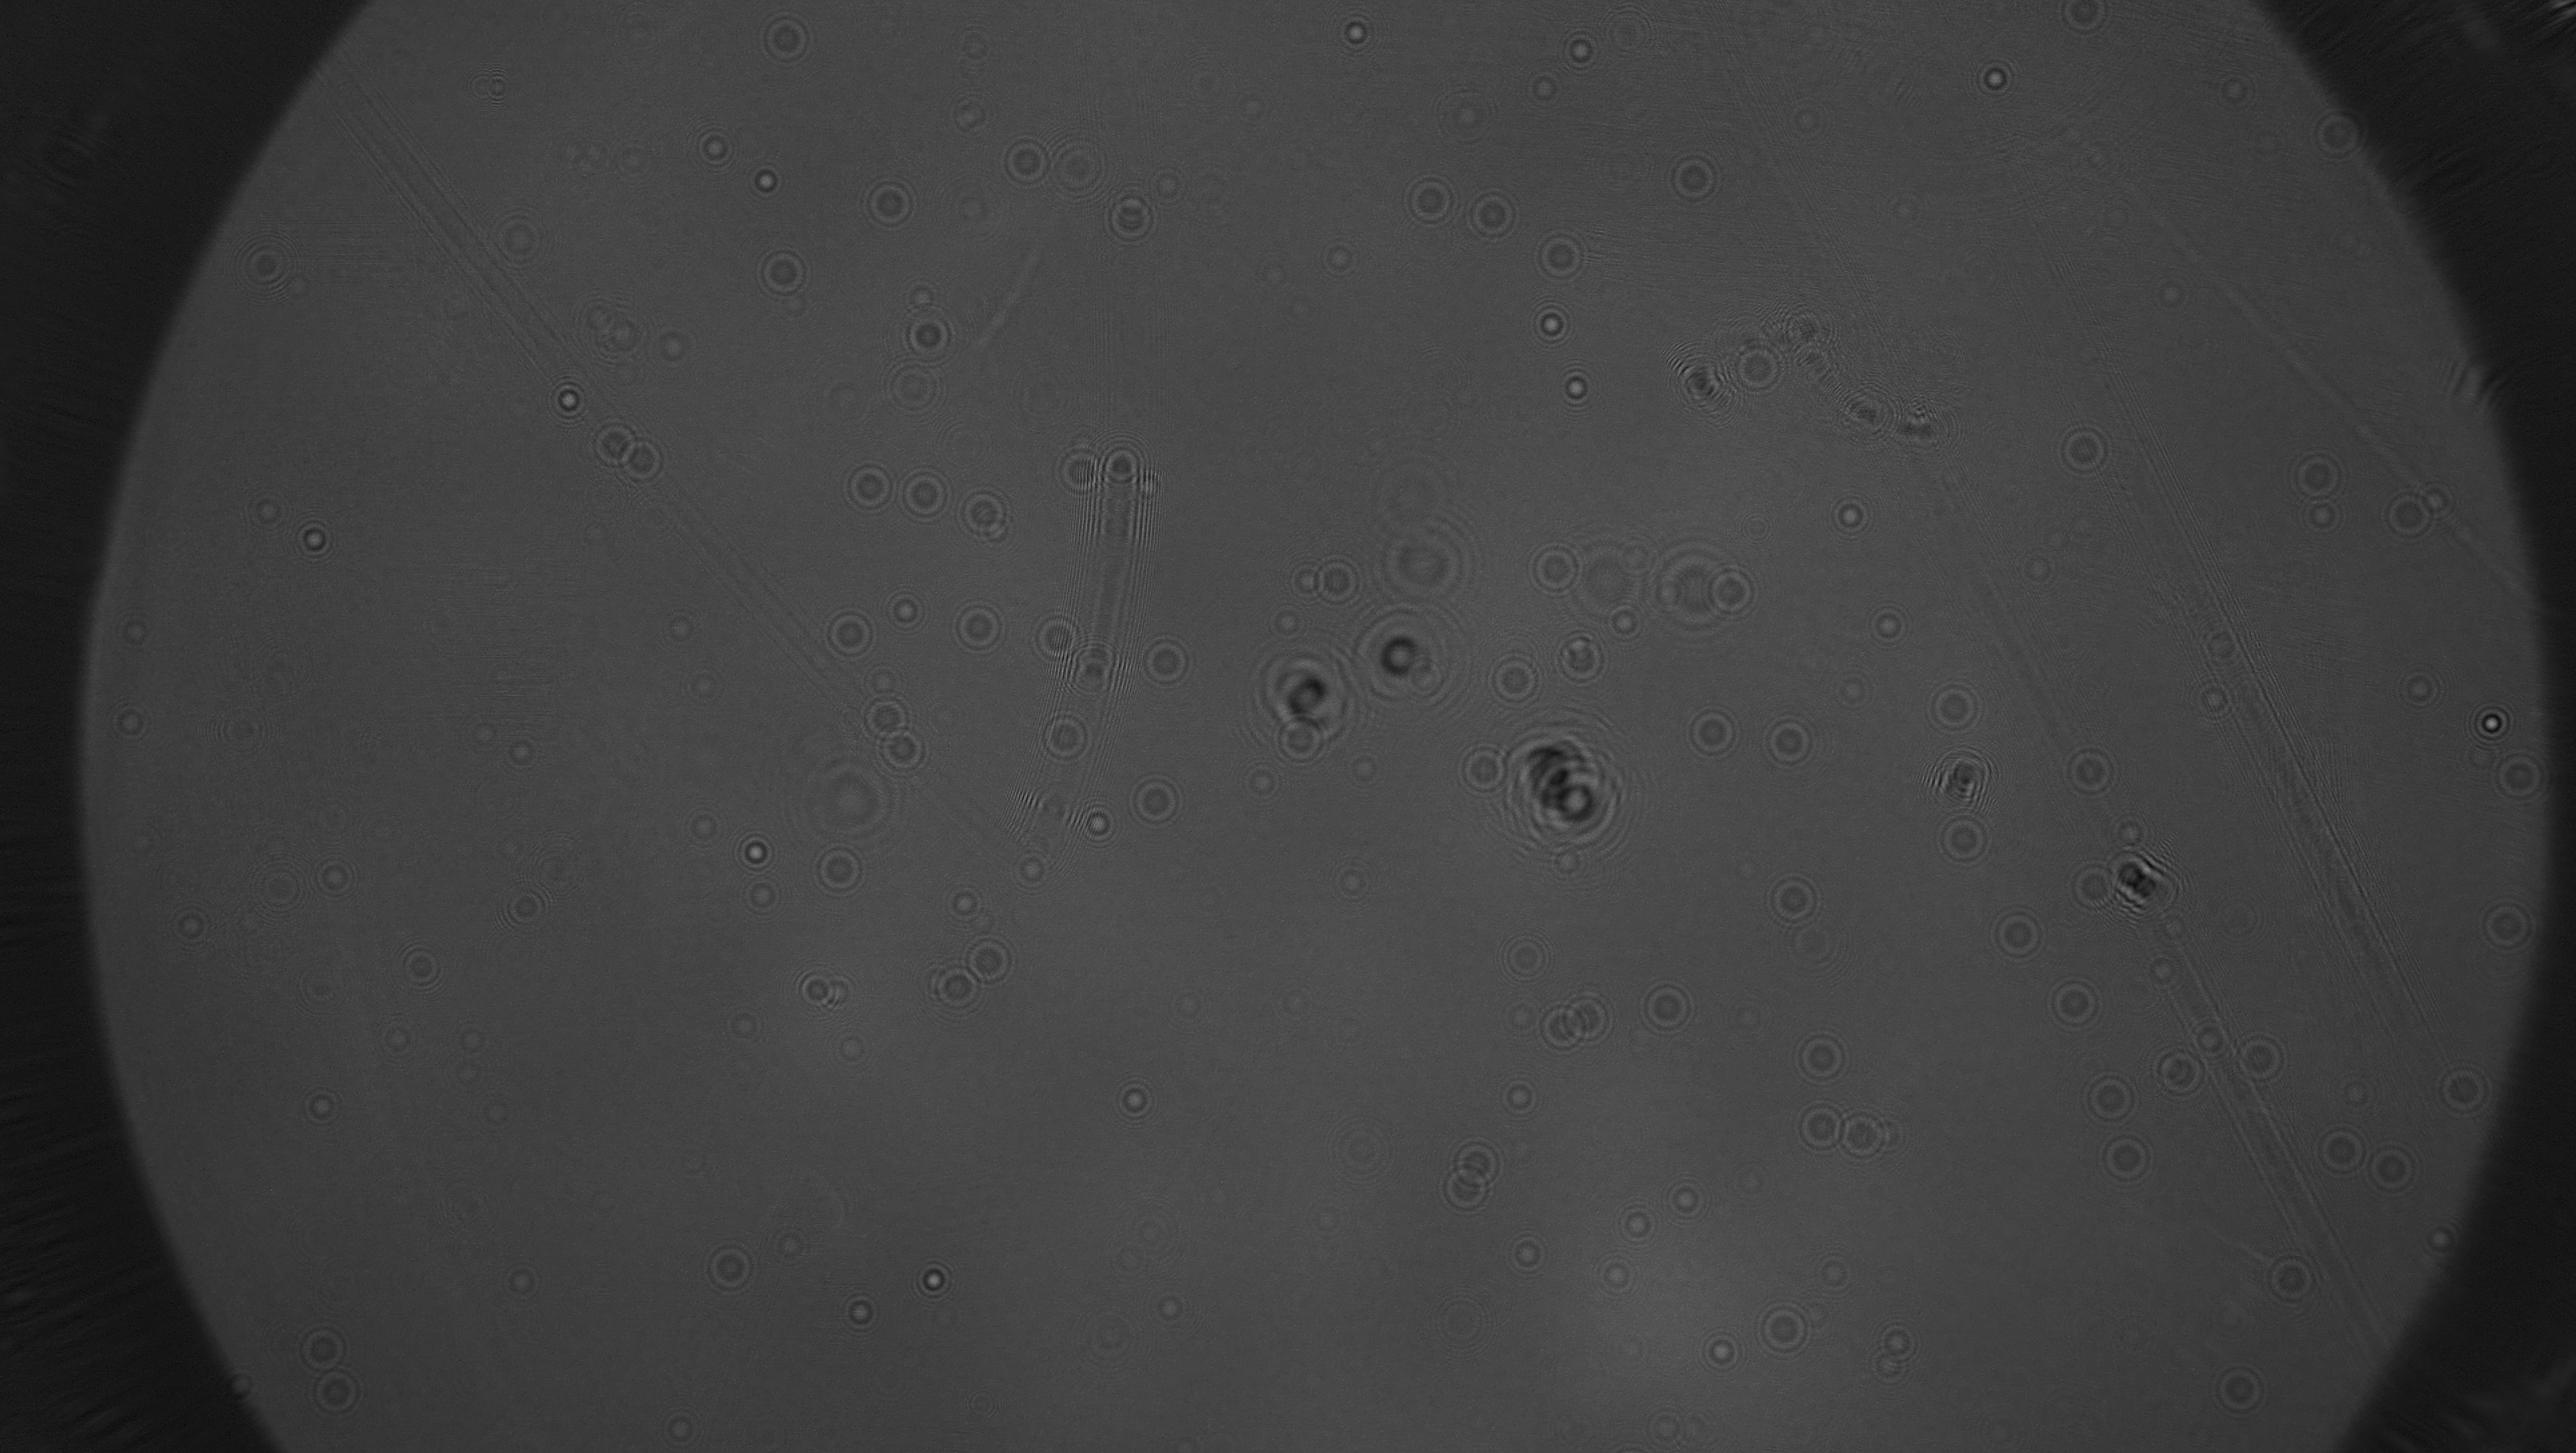bead: (747, 4, 826, 74), (2066, 1064, 2146, 1129), (853, 170, 924, 239), (2056, 736, 2123, 805), (1660, 145, 1730, 209), (876, 352, 943, 418), (2473, 887, 2539, 954), (2254, 1248, 2327, 1308), (1463, 184, 1527, 251), (1927, 811, 1997, 871), (1640, 973, 1702, 1041), (389, 938, 462, 995), (816, 600, 881, 662), (2095, 1129, 2160, 1191), (1789, 1025, 1856, 1085), (1921, 678, 1989, 738), (1318, 5, 1394, 58), (895, 460, 954, 529), (1987, 901, 2051, 963), (1028, 605, 1088, 671), (1138, 634, 1203, 694), (1529, 223, 1596, 281), (2282, 446, 2351, 503), (2052, 418, 2116, 478), (1752, 1294, 1810, 1359), (1031, 710, 1099, 766), (311, 1370, 377, 1426), (2426, 1060, 2493, 1115), (2312, 1119, 2371, 1180), (833, 458, 897, 515), (945, 600, 1008, 657), (1760, 871, 1826, 926), (1431, 1161, 1497, 1216), (901, 1246, 961, 1304), (2043, 975, 2104, 1034), (2212, 1356, 2270, 1416), (1486, 651, 1546, 710), (752, 246, 814, 303), (1125, 772, 1187, 828), (290, 1318, 350, 1375), (1102, 1069, 1162, 1126), (2371, 1136, 2424, 1200), (676, 122, 740, 175), (701, 1237, 757, 1295), (812, 842, 870, 899), (285, 511, 345, 566), (1681, 704, 1743, 757), (1399, 173, 1461, 227), (1656, 1172, 1718, 1225), (959, 483, 1016, 540), (1789, 1096, 1845, 1152), (966, 931, 1023, 986), (310, 851, 366, 904), (1552, 19, 1605, 76), (1821, 487, 1877, 540), (2233, 1032, 2289, 1083), (885, 727, 936, 782), (2378, 490, 2434, 540), (1762, 715, 1815, 766), (855, 694, 911, 742), (832, 1290, 890, 1336), (2465, 699, 2525, 743), (1859, 603, 1920, 646), (2493, 754, 2549, 798), (104, 697, 152, 749), (2063, 865, 2116, 911), (729, 826, 778, 873), (586, 418, 635, 464), (1069, 805, 1123, 846), (1000, 147, 1051, 188), (1697, 1333, 1746, 1373), (621, 437, 665, 481), (752, 159, 791, 209)
